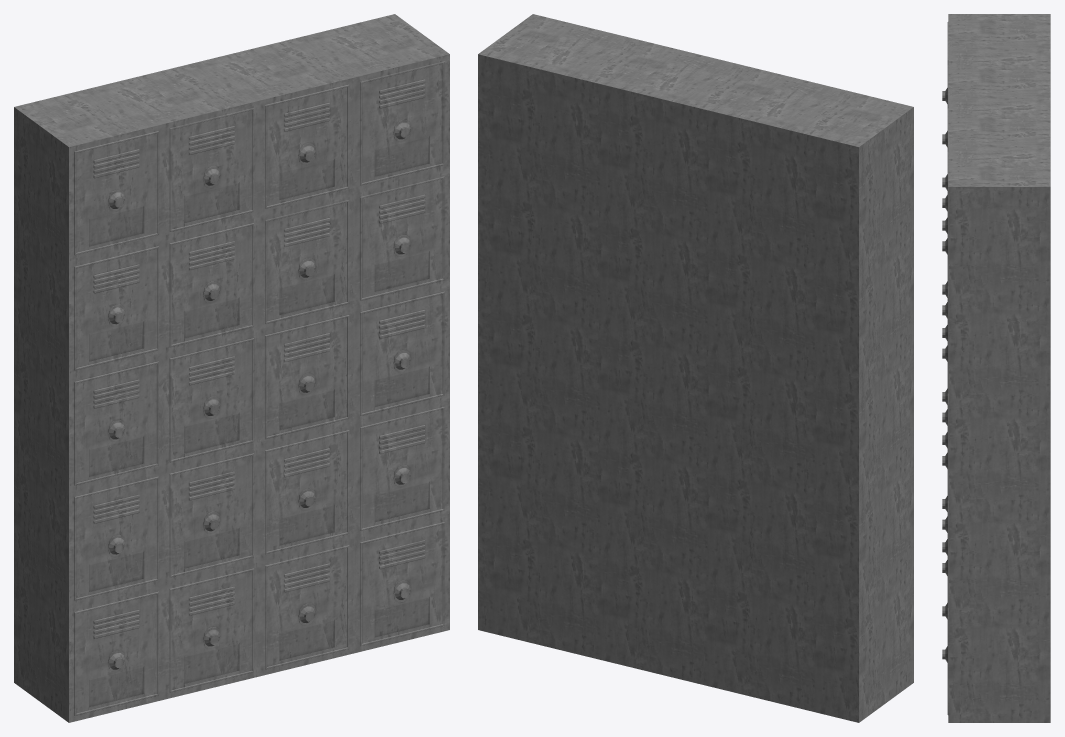
Rendered from vault_cabinets.fbx.
The picture shows the model from 3 angles, left to right: view 1: azimuth 30°, elevation 25°; view 2: azimuth 150°, elevation 25°; view 3: azimuth 270°, elevation 25°; orthographic projection. The views are drawn at different scales.
Parts seen in each view (by area): view 1: Safe Lockers; view 2: Safe Lockers; view 3: Safe Lockers.
Part boxes in pixels (x1,y1,x2,y2): Safe Lockers: (14,14,449,722); Safe Lockers: (478,14,913,722); Safe Lockers: (942,14,1050,722).
Bounding box in the file's own units: 210 × 303 × 55.54.
Materials: 1 (1 with a texture image).
